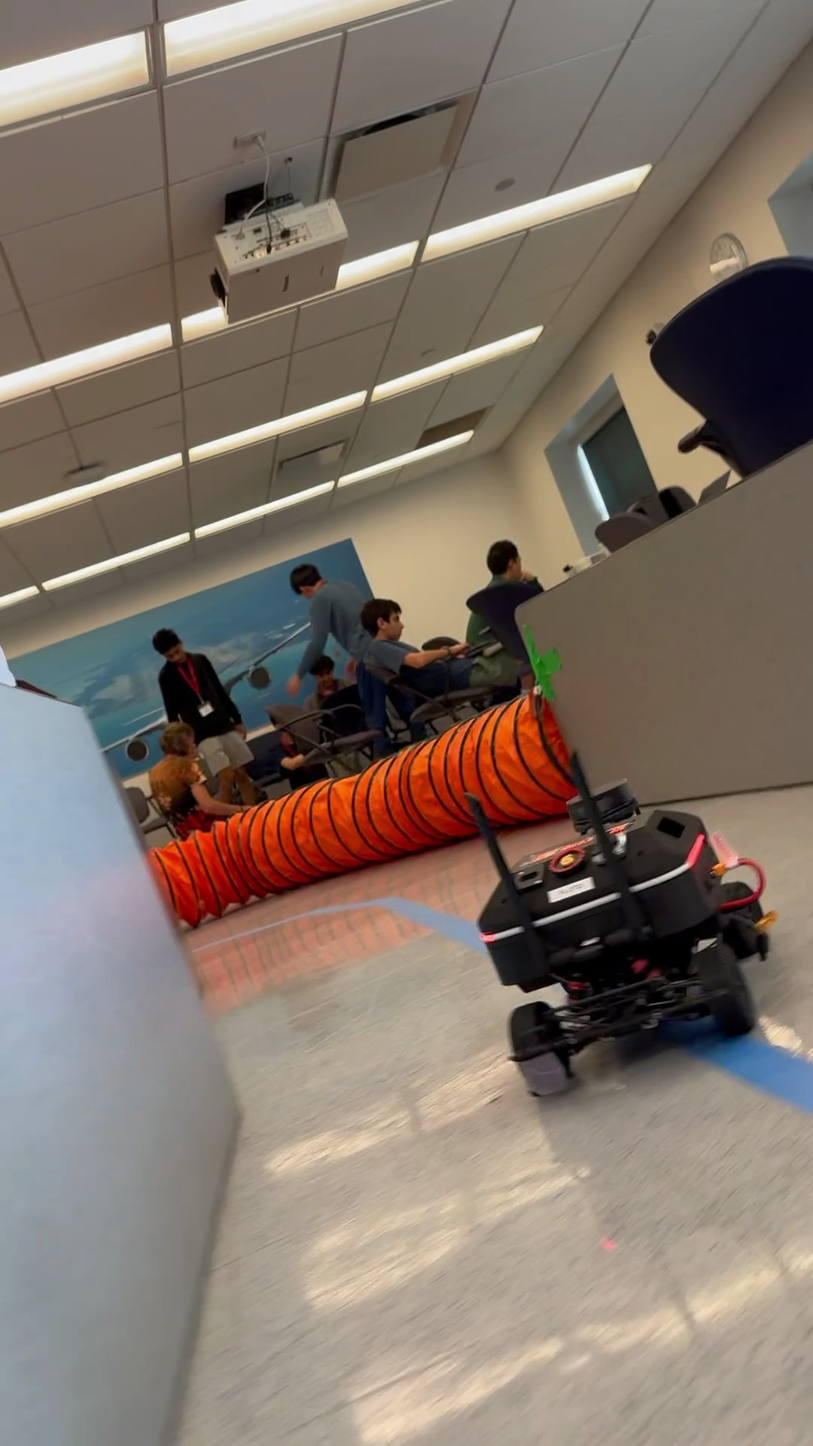racecar: (473, 706, 772, 1098)
